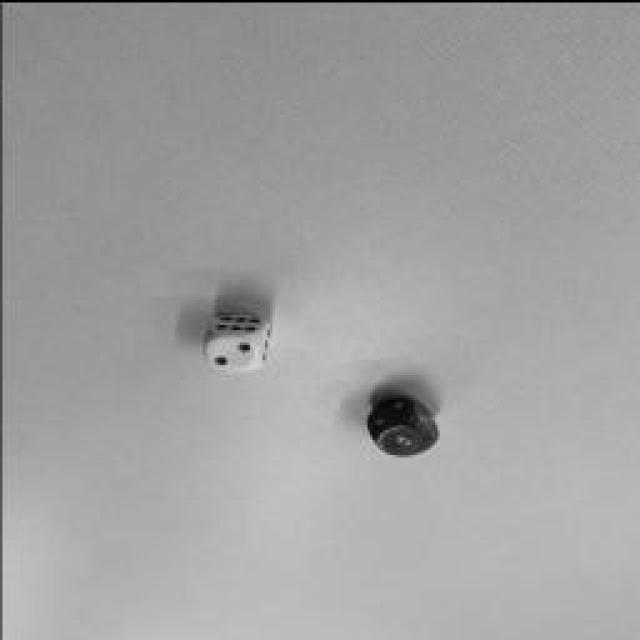dice_1: (378, 423, 430, 455)
dice_2: (202, 332, 258, 368)
